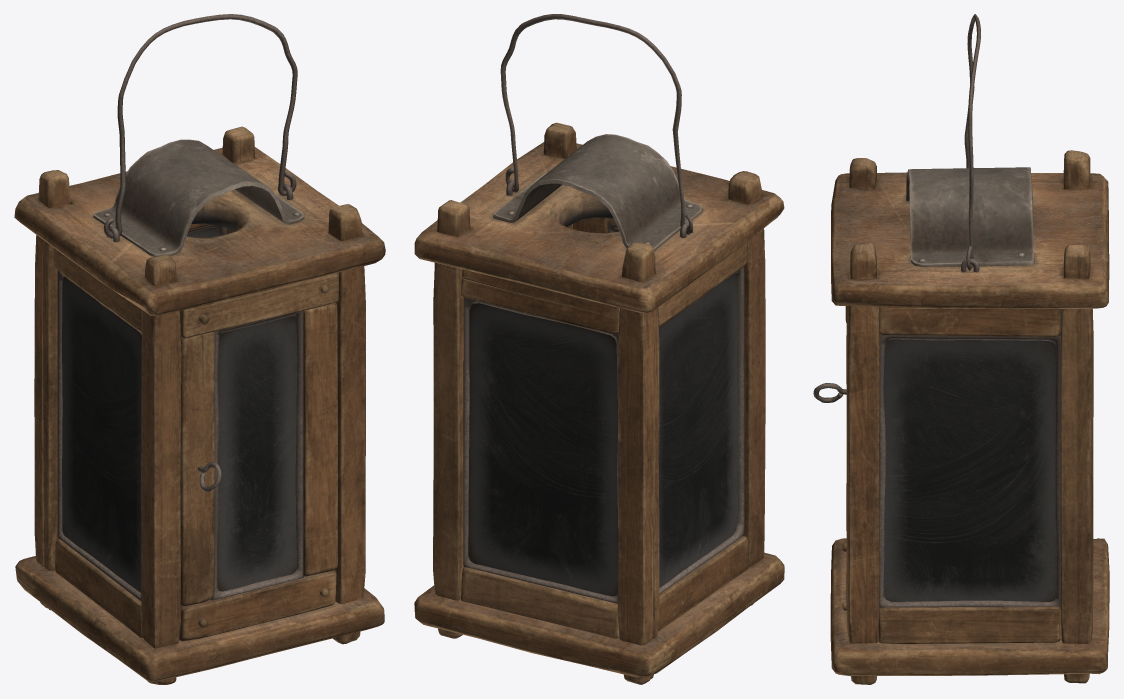
Rendered from wooden_lantern_01_1k.gltf.
3 renders of one model, left to right at view 1: azimuth 30°, elevation 25°; view 2: azimuth 150°, elevation 25°; view 3: azimuth 270°, elevation 25°, orthographic.
Visible parts, largest first — view 1: wooden_lantern_01, wooden_lantern_01_door, wooden_lantern_01_handle; view 2: wooden_lantern_01, wooden_lantern_01_handle, wooden_lantern_01_door; view 3: wooden_lantern_01, wooden_lantern_01_handle, wooden_lantern_01_door.
Boxes of the visible parts, x1=… form: wooden_lantern_01: x1=14, y1=126, x2=385, y2=684; wooden_lantern_01_door: x1=179, y1=272, x2=339, y2=641; wooden_lantern_01_handle: x1=103, y1=14, x2=297, y2=238; wooden_lantern_01: x1=414, y1=122, x2=784, y2=684; wooden_lantern_01_handle: x1=500, y1=14, x2=692, y2=234; wooden_lantern_01_door: x1=573, y1=217, x2=618, y2=233; wooden_lantern_01: x1=830, y1=150, x2=1109, y2=684; wooden_lantern_01_handle: x1=964, y1=14, x2=980, y2=270; wooden_lantern_01_door: x1=813, y1=306, x2=847, y2=610.
Size of the model in its own units: 0.2211 by 0.5301 by 0.2347.
2 materials, 2 textured.
